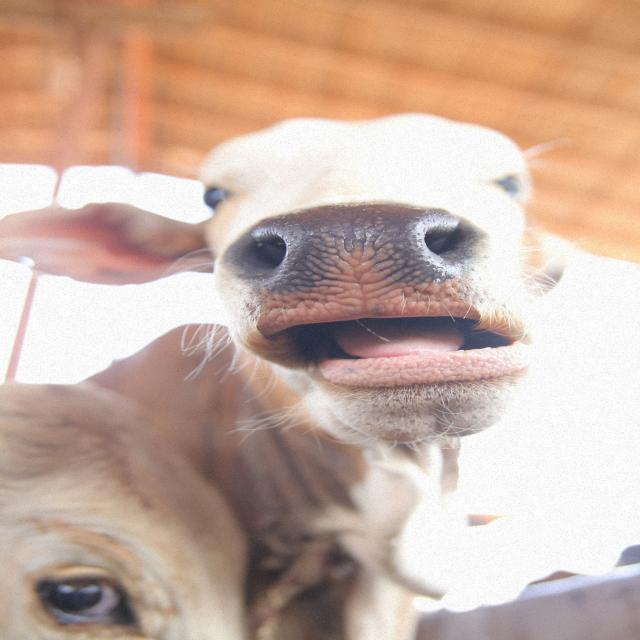muzzles: (230, 203, 508, 338)
